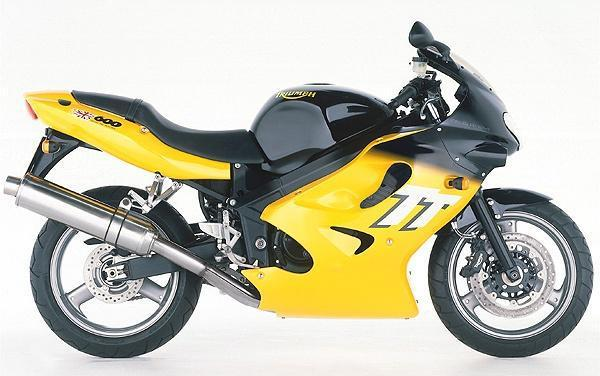motorcycle: (3, 24, 599, 363)
